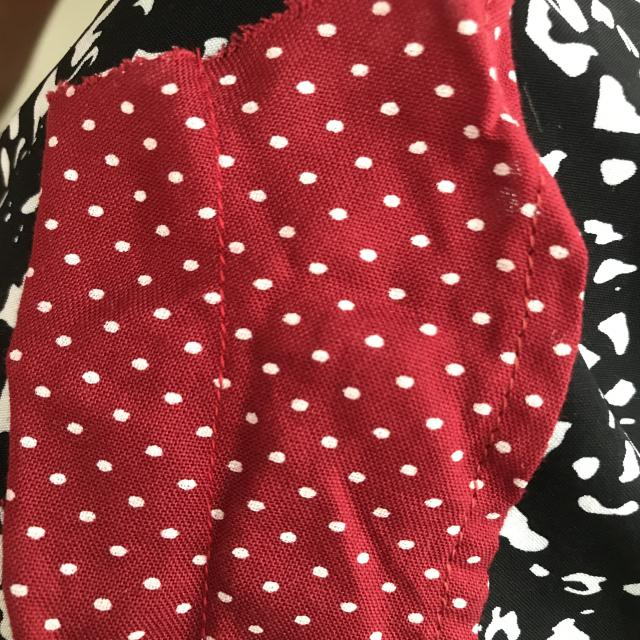good: (201, 236, 236, 424), (491, 352, 523, 446)
